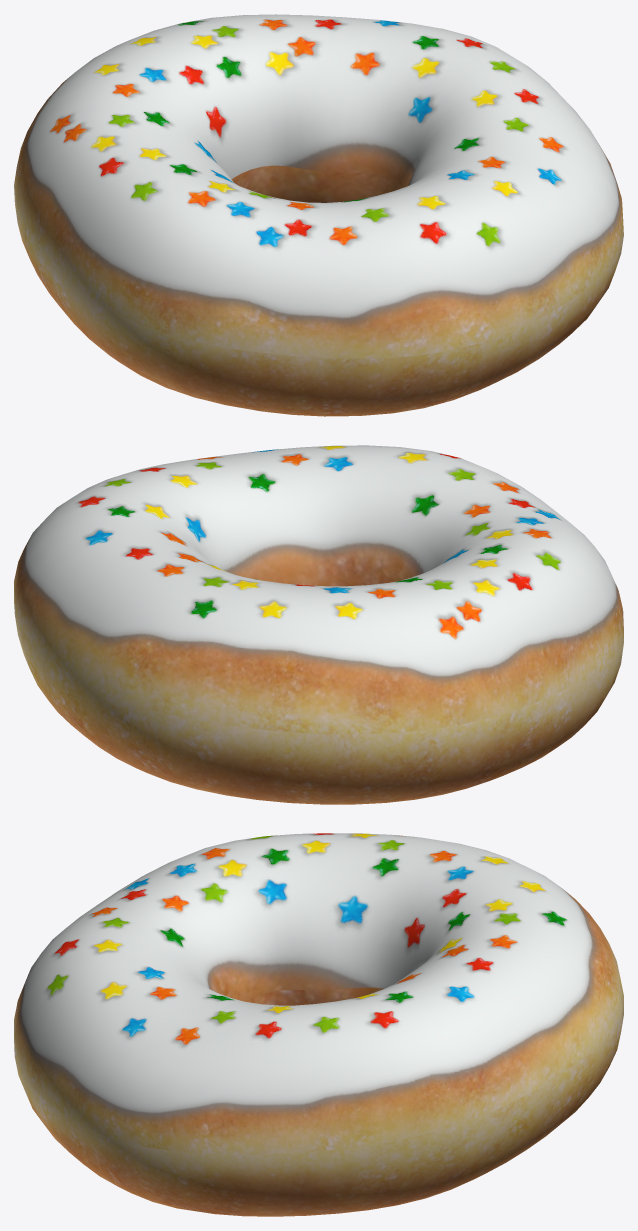
Rendered from Donut9.obj.
3 views of the same model, one above another, from view 1: azimuth 30°, elevation 25°; view 2: azimuth 150°, elevation 25°; view 3: azimuth 270°, elevation 25° (orthographic).
Visible parts, largest first — view 1: donut061; view 2: donut061; view 3: donut061.
Boxes of the visible parts, <box> form: donut061: <box>14,14,623,416</box>; donut061: <box>14,445,623,804</box>; donut061: <box>14,833,623,1216</box>.
Bounding box in the file's own units: 9.35 × 3.88 × 9.66.
Materials: 1 (1 with a texture image).
